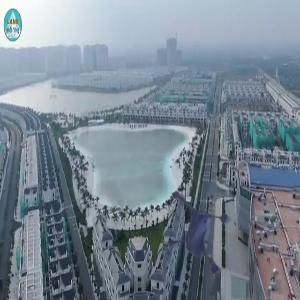drone: (159, 192, 261, 294)
